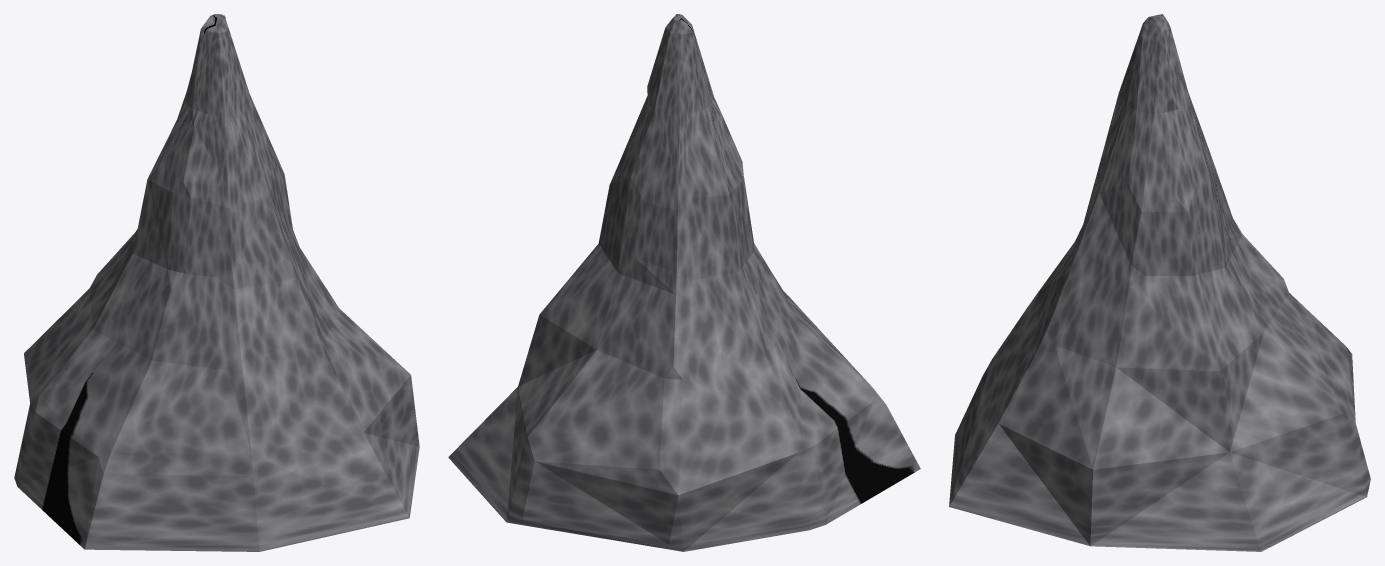
The model's file is 뾰족바위_02.fbx.
3 renders of one model, left to right at view 1: azimuth 30°, elevation 25°; view 2: azimuth 150°, elevation 25°; view 3: azimuth 270°, elevation 25°, orthographic.
Visible parts, largest first — view 1: 뾰족바위_02; view 2: 뾰족바위_02; view 3: 뾰족바위_02.
Part boxes in pixels (left/top/right/bottom): 뾰족바위_02: left=14, top=14, right=419, bottom=551; 뾰족바위_02: left=448, top=14, right=920, bottom=551; 뾰족바위_02: left=949, top=14, right=1370, bottom=551.
Size of the model in its own units: 1958 by 2280 by 1940.
Materials: 1 (1 with a texture image).
